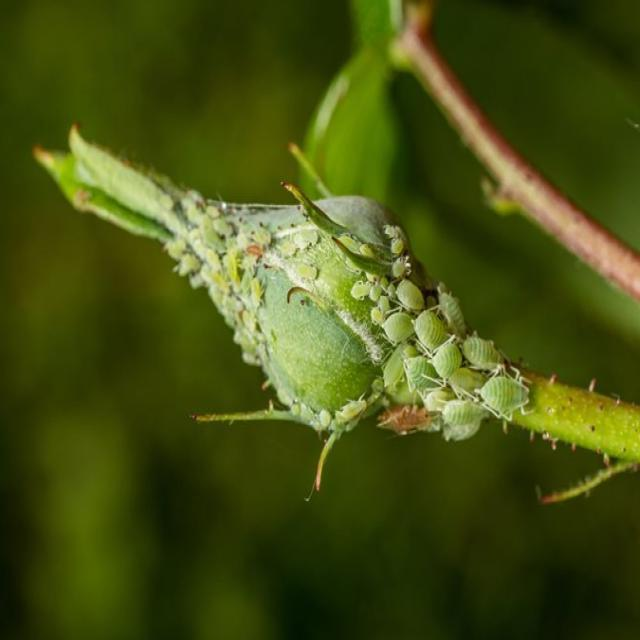aphid: (473, 367, 542, 431), (458, 327, 503, 382), (422, 334, 469, 384), (366, 300, 419, 344), (440, 401, 489, 447), (413, 314, 453, 358), (336, 399, 368, 423), (199, 219, 223, 249), (178, 252, 201, 276), (294, 228, 319, 248), (350, 281, 373, 301), (293, 403, 316, 423), (294, 263, 318, 281), (391, 258, 407, 279), (358, 243, 376, 259), (390, 238, 405, 255)
